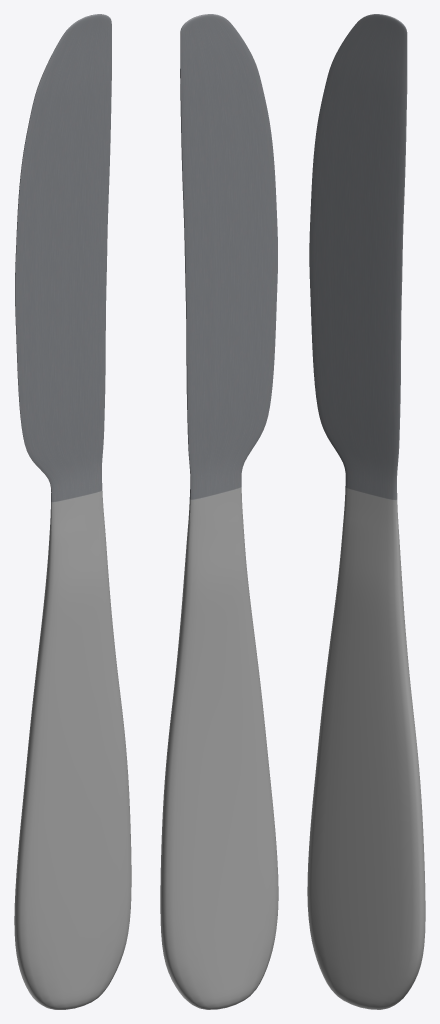
3 views of the same model, side by side, from view 1: azimuth 30°, elevation 25°; view 2: azimuth 210°, elevation 25°; view 3: azimuth 330°, elevation 25° (orthographic).
Parts seen in each view (by area): view 1: knife; view 2: knife; view 3: knife.
Boxes of the visible parts, x1=… form: knife: x1=14, y1=14, x2=131, y2=1009; knife: x1=160, y1=14, x2=278, y2=1009; knife: x1=307, y1=14, x2=425, y2=1009.
Bounding box in the file's own units: 2.66 × 21.94 × 0.5429.
1 material, 1 textured.
